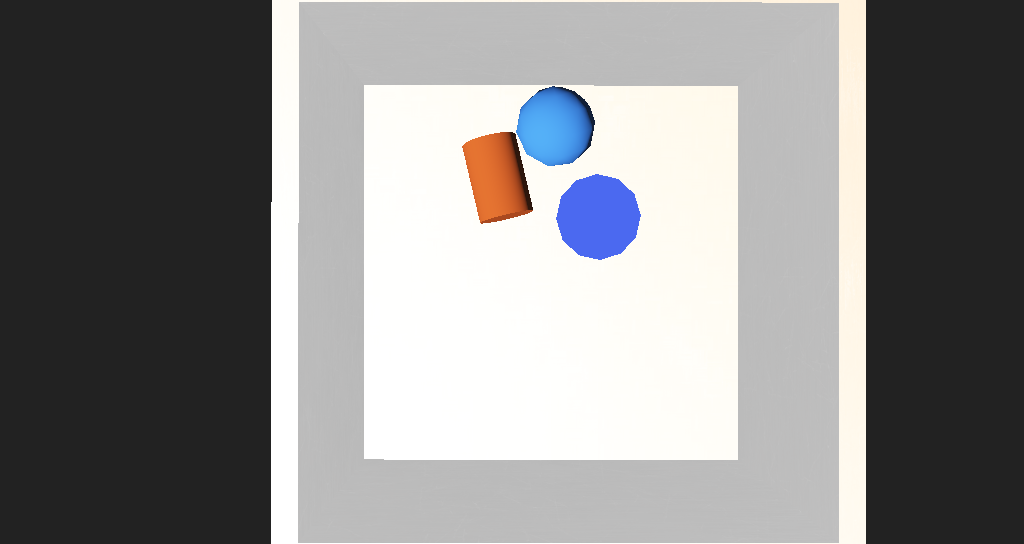cone: (435, 188, 495, 241)
cylinder: (502, 212, 576, 265)
sphere: (482, 162, 542, 210)
